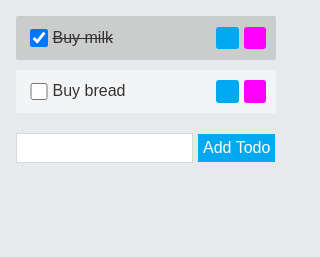
TodoApp › New items must have a unique name a warning will show if they don't
This screenshot has width=320, height=257.
Type "Buy bread" into the field with test id "new-input". click: (104, 148)
box: [16,133,193,163]
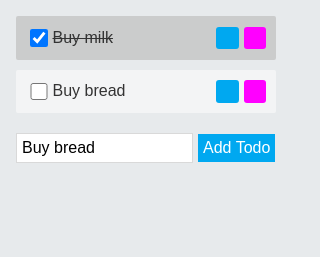
Click the button with test id "new-submit". click: click(237, 148)
box: [198,134,275,162]
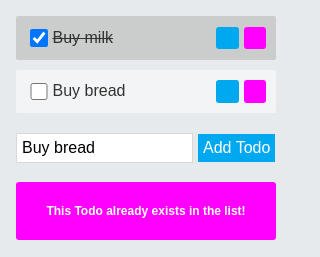
Expected: the text "This Todo already exists in the list!" is shown, [46,204,246,218]
